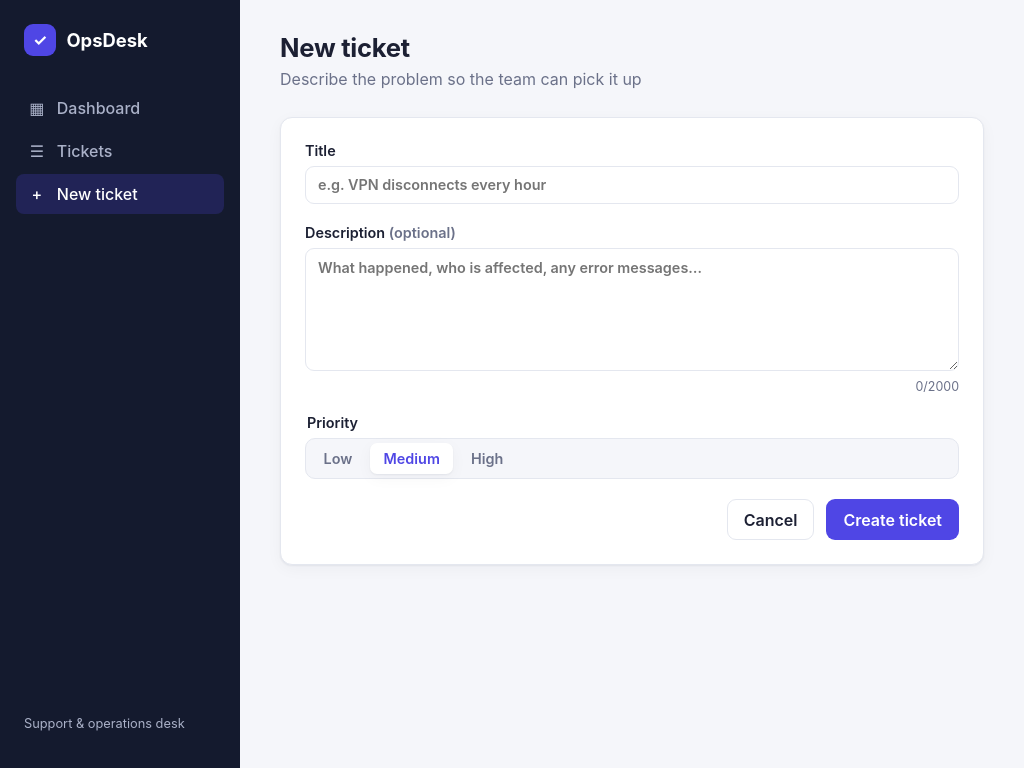
Scenario: New ticket › creates the ticket and opens its detail page
Type "Printer offline" into the field labelled "Title".
click(632, 185); type("Printer offline")  # box [305,166,959,204]
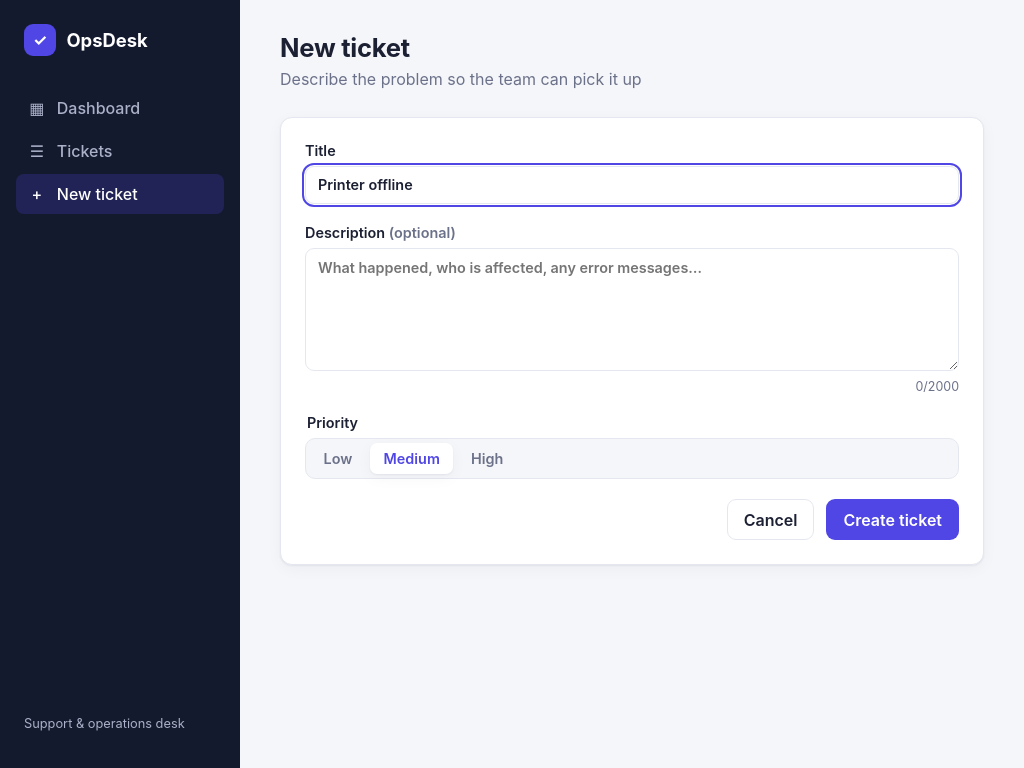
Click the button "High".
click(487, 458)  # box [458,443,517,474]
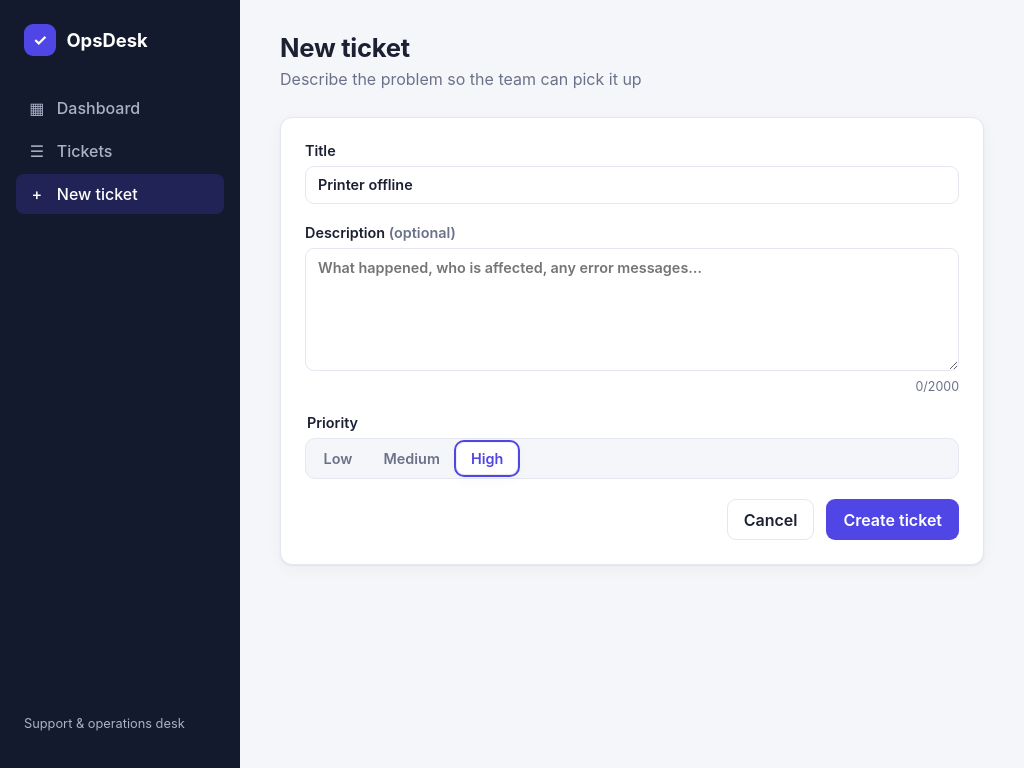
Click the button "Create ticket".
click(893, 520)  # box [826,499,959,540]
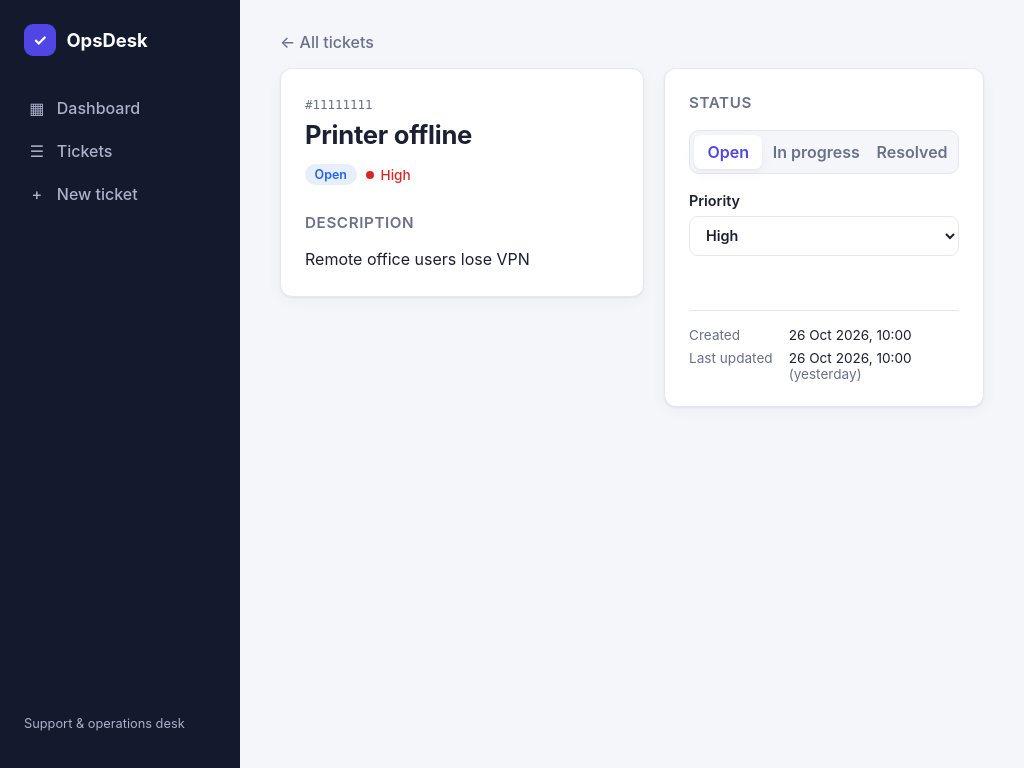
Check: the heading "Printer offline" is shown, box [305,119,472,150]
